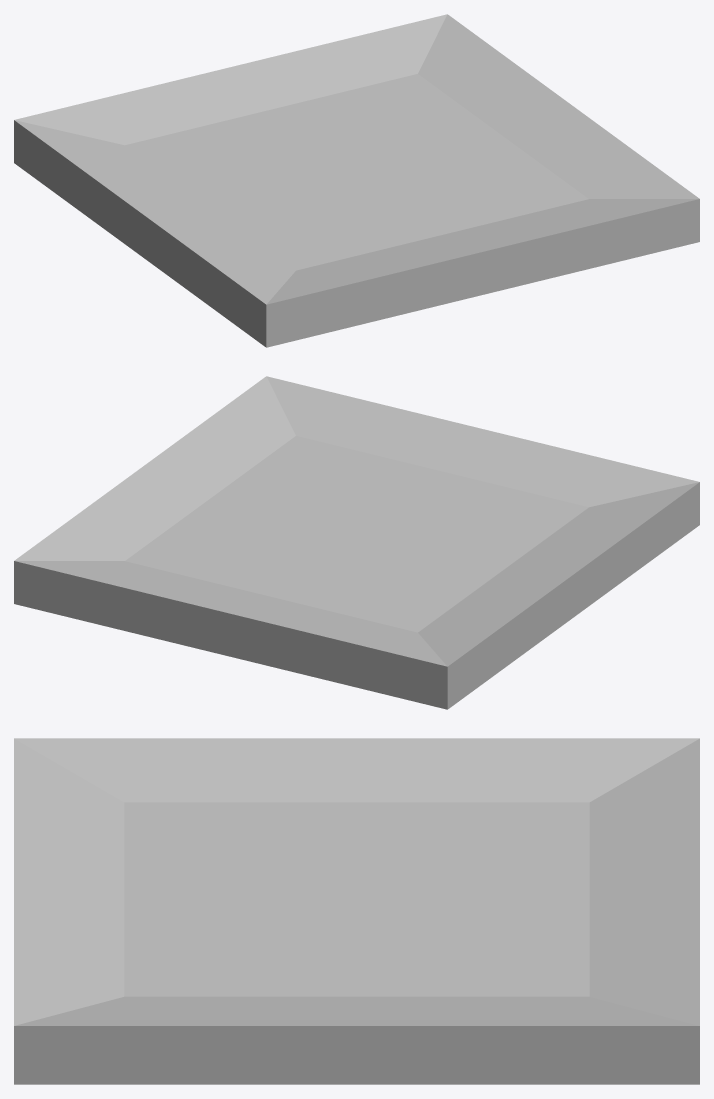
File: Itr_Chair3_Seat_06.FBX
3 renders of one model, top to bottom at view 1: azimuth 30°, elevation 25°; view 2: azimuth 150°, elevation 25°; view 3: azimuth 270°, elevation 25°, orthographic. The views are drawn at different scales.
Parts seen in each view (by area): view 1: Itr_Chair3_Seat_06; view 2: Itr_Chair3_Seat_06; view 3: Itr_Chair3_Seat_06.
Part boxes in pixels (box(x1,y1,x2,y2)): Itr_Chair3_Seat_06: box(14, 14, 699, 347); Itr_Chair3_Seat_06: box(14, 376, 699, 709); Itr_Chair3_Seat_06: box(14, 738, 699, 1084).
Size of the model in its own units: 15.84 by 1.95 by 15.97.
